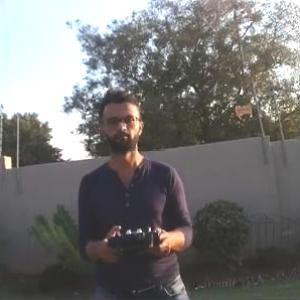follow: (72, 83, 202, 299)
